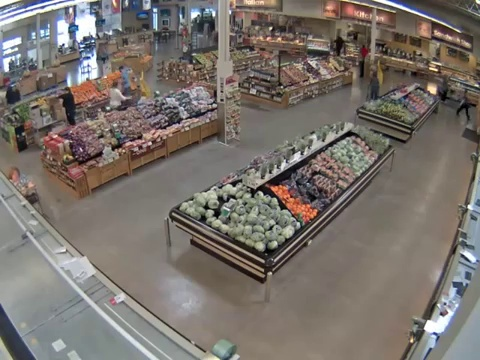face: (9, 168, 20, 181)
